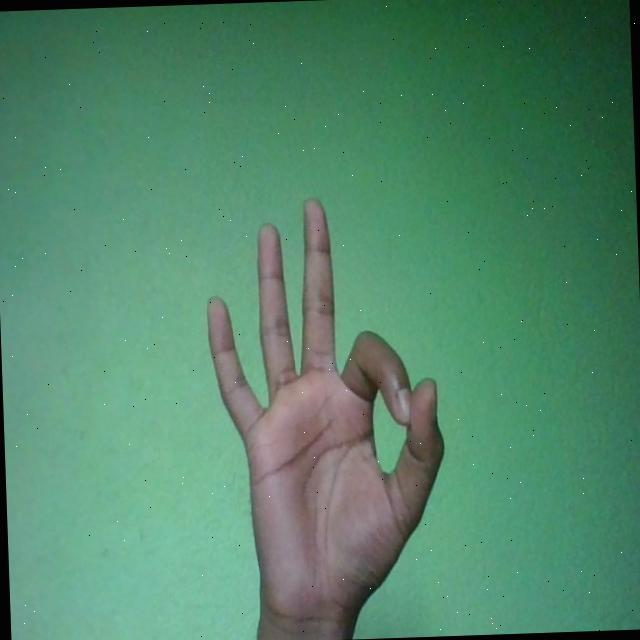Rock On: (202, 191, 450, 638)
